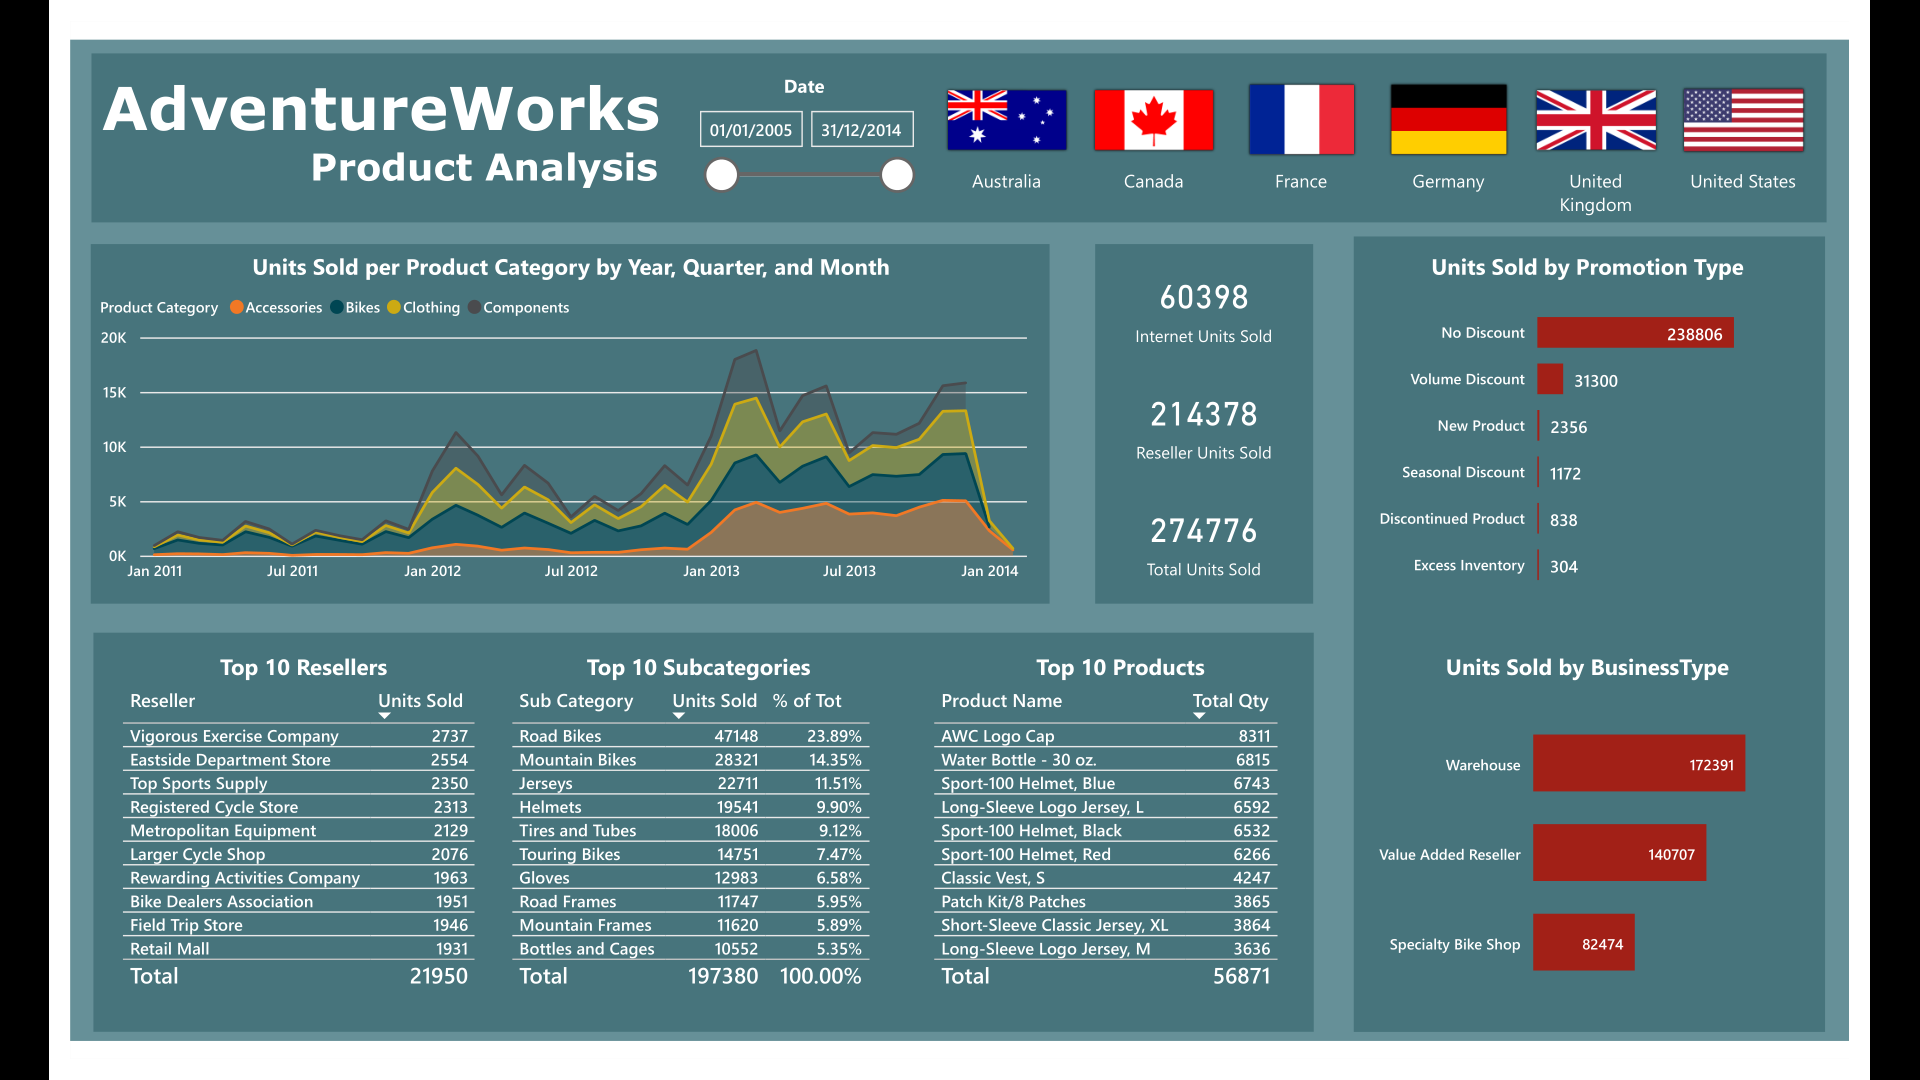

The page's visual inventory and layout, read from the dashboard file:
{"tool":"powerbi","page":{"name":"Product Analysis","canvas":[1280,720],"ordinal":0},"visuals":[{"type":"basicShape","box":[920,136,346,584],"z":0},{"type":"basicShape","box":[8,144,704,264],"z":1000},{"type":"basicShape","box":[8,424,896,293],"z":2000},{"type":"basicShape","box":[2.8,8.3,1273.6,124],"z":3000},{"type":"textbox","box":[18.4,17.4,430.6,105.6],"z":4000},{"type":"tableEx","title":"Top 10 Resellers","fields":{"Values":["DimReseller.ResellerName","All Measures.Reseller Sales Qty"]},"box":[32,440,272,272],"z":5000},{"type":"tableEx","title":"Top 10 Subcategories","fields":{"Values":["DimProductSubcategory.EnglishProductSubcategoryName","All Measures.Total Qty","Divide(All Measures.Total Qty, ScopedEval(All Measures.Total Qty, []))"]},"box":[312,440,280,272],"z":6000},{"type":"tableEx","title":"Top 10 Products","fields":{"Values":["DimProduct.EnglishProductName","All Measures.Total Qty"]},"box":[616,440,280,272],"z":7000},{"type":"enlightenWorldFlagsE887F52F76244B1C927F80CF9724AEF6","fields":{"code":["DimGeography.EnglishCountryRegionName"]},"box":[616.1,17.4,646.4,114.8],"z":8000},{"type":"slicer","title":"Date","fields":{"Values":["DimDate.FullDateAlternateKey"]},"box":[440,24,176,104],"z":9000},{"type":"stackedAreaChart","title":"Units Sold per Product Category by Year, Quarter, and Month","fields":{"Y":["All Measures.Total Qty"],"Category":["DimDate.FullDateAlternateKey.Variation.Date Hierarchy.Year","DimDate.FullDateAlternateKey.Variation.Date Hierarchy.Quarter","DimDate.FullDateAlternateKey.Variation.Date Hierarchy.Month"],"Series":["DimProductCategory.EnglishProductCategoryName"]},"box":[16,152,688,248],"z":10000},{"type":"clusteredBarChart","title":"Units Sold by Promotion Type","fields":{"Y":["All Measures.Total Qty"],"Category":["DimPromotion.EnglishPromotionType"]},"box":[936,152,312,256],"z":11000},{"type":"clusteredBarChart","title":"Units Sold by BusinessType","fields":{"Category":["DimReseller.BusinessType"],"Y":["All Measures.Total Qty"]},"box":[936,440,312,264],"z":12000},{"type":"basicShape","box":[736,144,160,264],"z":13000},{"type":"card","fields":{"Values":["All Measures.Internet Sales Qty"]},"box":[744,152,144,80],"z":14000},{"type":"card","fields":{"Values":["All Measures.Reseller Sales Qty"]},"box":[744,236,144,80],"z":15000},{"type":"card","fields":{"Values":["All Measures.Total Qty"]},"box":[744,320,144,80],"z":16000}]}

Visuals, with their boxes in screenshot pixels (x1, y1, x2, y2), scaled from the page's 1280x720 canvas onto the 1920x1080 screenshot:
basicShape: bbox=(1380, 204, 1899, 1079)
basicShape: bbox=(12, 216, 1068, 612)
basicShape: bbox=(12, 636, 1356, 1076)
basicShape: bbox=(4, 12, 1915, 198)
textbox: bbox=(28, 26, 674, 184)
"Top 10 Resellers" tableEx: bbox=(48, 660, 456, 1068)
"Top 10 Subcategories" tableEx: bbox=(468, 660, 888, 1068)
"Top 10 Products" tableEx: bbox=(924, 660, 1344, 1068)
enlightenWorldFlagsE887F52F76244B1C927F80CF9724AEF6 - DimGeography.EnglishCountryRegionName: bbox=(924, 26, 1894, 198)
"Date" slicer: bbox=(660, 36, 924, 192)
"Units Sold per Product Category by Year, Quarter, and Month" stackedAreaChart: bbox=(24, 228, 1056, 600)
"Units Sold by Promotion Type" clusteredBarChart: bbox=(1404, 228, 1872, 612)
"Units Sold by BusinessType" clusteredBarChart: bbox=(1404, 660, 1872, 1056)
basicShape: bbox=(1104, 216, 1344, 612)
card - All Measures.Internet Sales Qty: bbox=(1116, 228, 1332, 348)
card - All Measures.Reseller Sales Qty: bbox=(1116, 354, 1332, 474)
card - All Measures.Total Qty: bbox=(1116, 480, 1332, 600)
